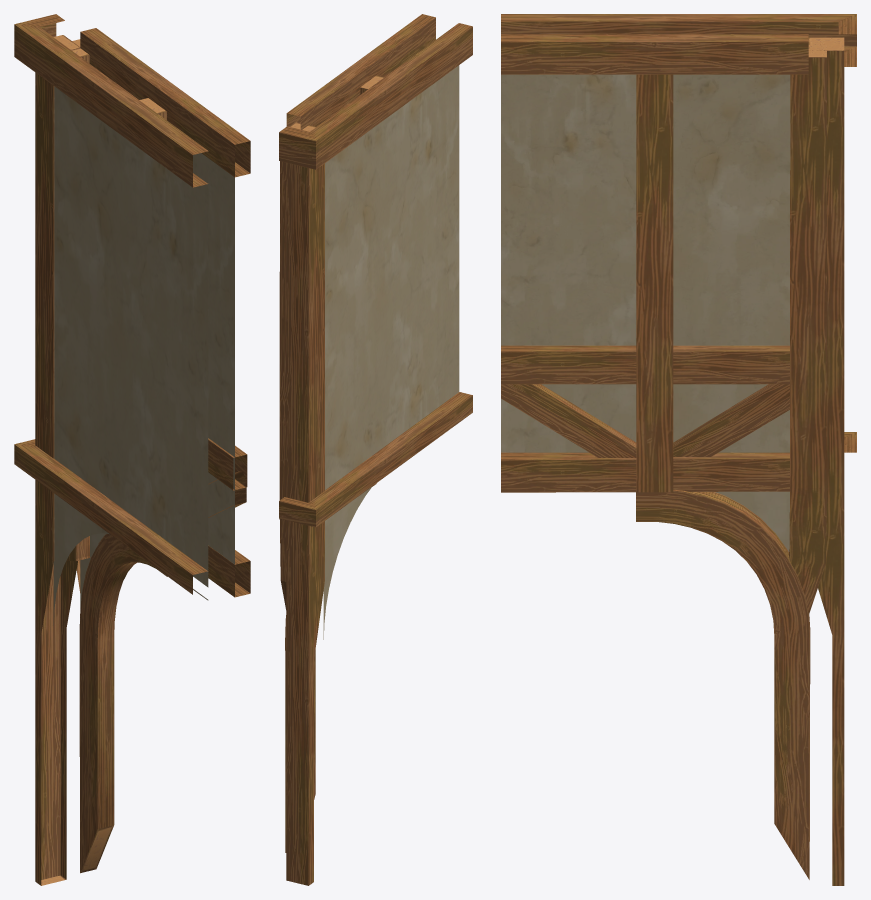
The model's file is Overhang_Side_Plaster_Long_R.glb.
3 renders of one model, left to right at view 1: azimuth 30°, elevation 25°; view 2: azimuth 150°, elevation 25°; view 3: azimuth 270°, elevation 25°, orthographic. The views are drawn at different scales.
Visible parts, largest first — view 1: Overhang_Side_Plaster_Long_R; view 2: Overhang_Side_Plaster_Long_R; view 3: Overhang_Side_Plaster_Long_R.
Part boxes in pixels (x1,y1,x2,y2): Overhang_Side_Plaster_Long_R: (14,14,250,885); Overhang_Side_Plaster_Long_R: (279,14,472,885); Overhang_Side_Plaster_Long_R: (501,14,856,885).
Size of the model in its own units: 0.4794 by 6.12 by 2.31.
2 materials, 2 textured.
